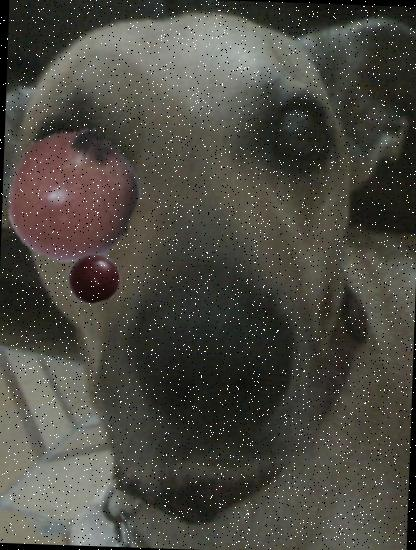Cherry: (67, 251, 122, 306)
Pomegranate: (2, 123, 147, 268)
